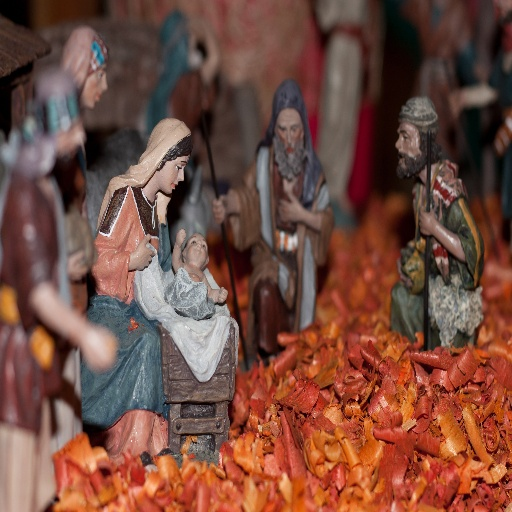hand: (79, 323, 121, 374), (278, 187, 305, 226), (132, 232, 154, 269), (68, 247, 88, 286), (186, 12, 206, 50), (417, 200, 436, 236), (211, 193, 230, 226), (448, 87, 463, 118), (174, 226, 187, 247), (217, 286, 229, 305)
